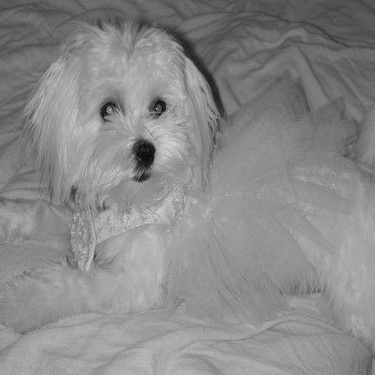dog: (13, 10, 230, 271)
